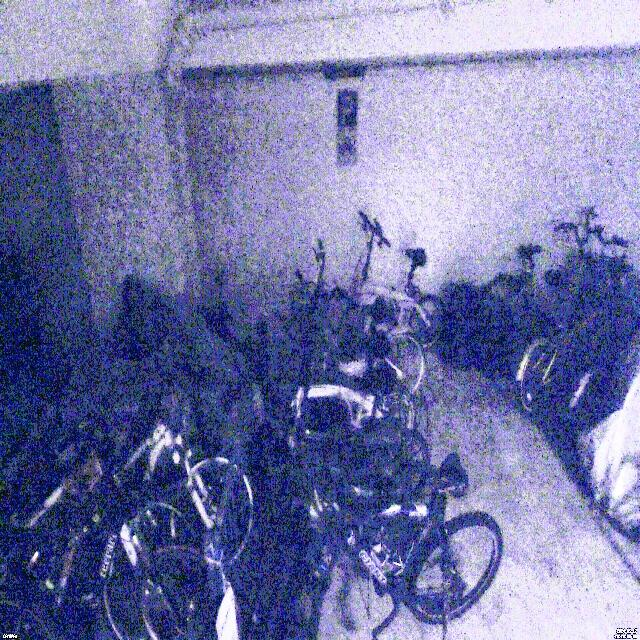bike: (32, 382, 254, 574), (292, 451, 503, 640), (300, 234, 428, 396), (478, 218, 616, 356), (327, 212, 445, 355)
